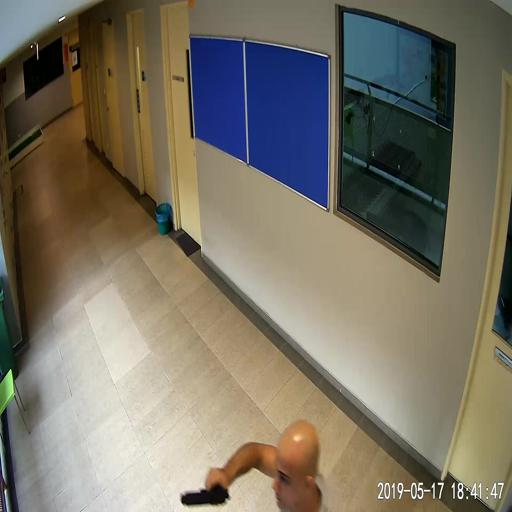pistol: (180, 466, 229, 507)
